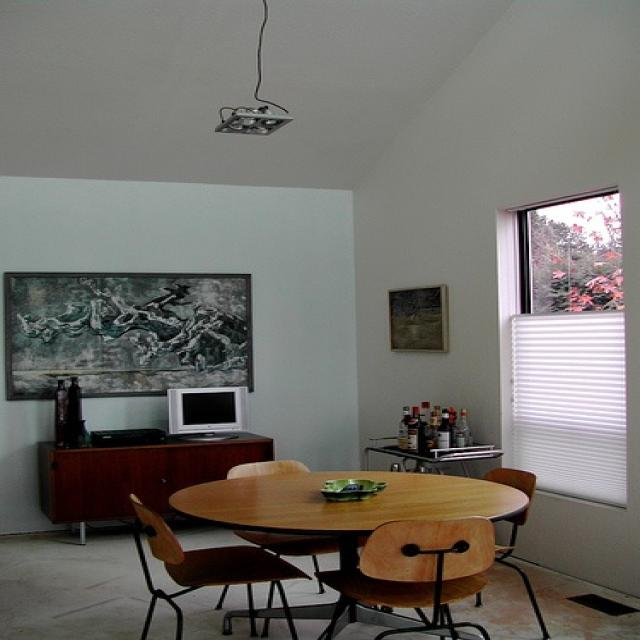chair: (114, 493, 306, 639), (306, 516, 517, 639)
diningtable: (162, 466, 531, 639)
tvmonitor: (162, 388, 253, 439)
